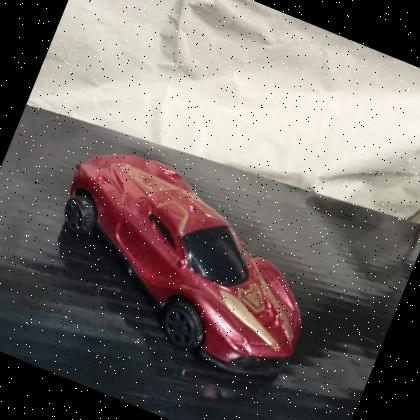Car: (18, 126, 348, 404)
